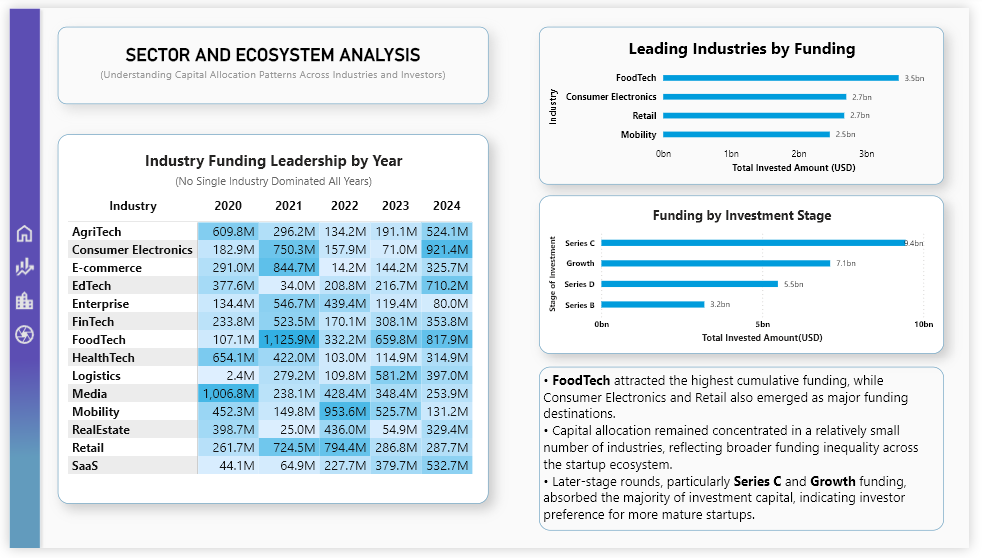

What the dashboard file says about the page in this screenshot:
{"tool":"powerbi","page":{"name":"Sector and Ecosystem Analysis","canvas":[1280,720],"ordinal":1},"visuals":[{"type":"clusteredBarChart","title":"Leading Industries by Funding","fields":{"Category":["investor_funding.Industry"],"Y":["Sum(investor_funding.InvestmentAmount_USD)"]},"box":[707.1,25.7,540,210],"z":0},{"type":"textbox","box":[65.7,25.7,574.3,102.9],"z":1000},{"type":"pivotTable","title":"Industry Funding Leadership by Year","fields":{"Rows":["investor_funding.Industry"],"Columns":["investor_funding.Date.Variation.Date Hierarchy.Year","investor_funding.Date.Variation.Date Hierarchy.Quarter","investor_funding.Date.Variation.Date Hierarchy.Month","investor_funding.Date.Variation.Date Hierarchy.Day"],"Values":["Sum(investor_funding.InvestmentAmount_USD)"]},"box":[65.7,168.6,574.3,492.9],"z":2000},{"type":"clusteredBarChart","title":"Funding by Investment Stage","fields":{"Category":["investor_funding.InvestmentType"],"Y":["Sum(investor_funding.InvestmentAmount_USD)"]},"box":[706.7,250,540,211.1],"z":3000},{"type":"textbox","box":[707.1,478.6,540,218.6],"z":4000},{"type":"actionButton","box":[0,365.2,41.4,50],"z":5000},{"type":"actionButton","box":[0,320.5,41.4,50],"z":6000},{"type":"actionButton","box":[0,275.7,41.4,50],"z":7000},{"type":"actionButton","box":[0,410,41.4,50],"z":8000}]}

Visuals, with their boxes on the page's 1280x720 design canvas (x1, y1, x2, y2). These are canvas units, not pixel positions in the 982x558 screenshot, which may show the page scaled, cropped or inside an application window:
"Leading Industries by Funding" clusteredBarChart: select_region(707, 26, 1247, 236)
textbox: select_region(66, 26, 640, 129)
"Industry Funding Leadership by Year" pivotTable: select_region(66, 169, 640, 662)
"Funding by Investment Stage" clusteredBarChart: select_region(707, 250, 1247, 461)
textbox: select_region(707, 479, 1247, 697)
actionButton: select_region(0, 365, 41, 415)
actionButton: select_region(0, 320, 41, 370)
actionButton: select_region(0, 276, 41, 326)
actionButton: select_region(0, 410, 41, 460)
